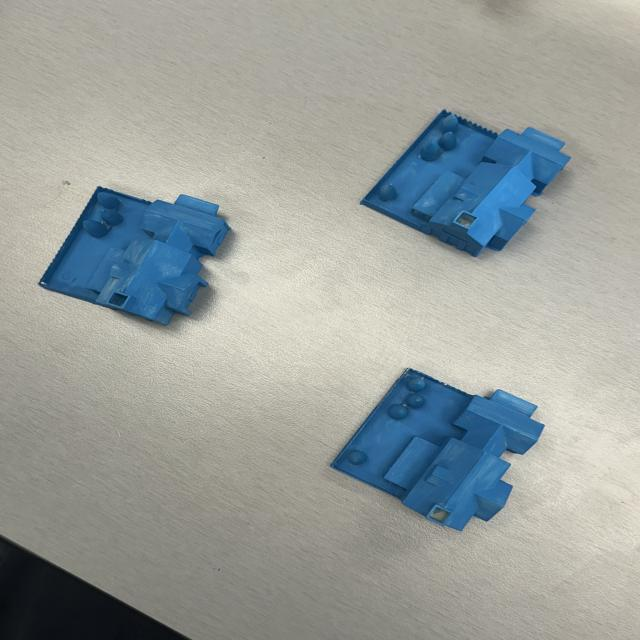house: (332, 366, 546, 532), (360, 107, 572, 259), (38, 186, 231, 326)
